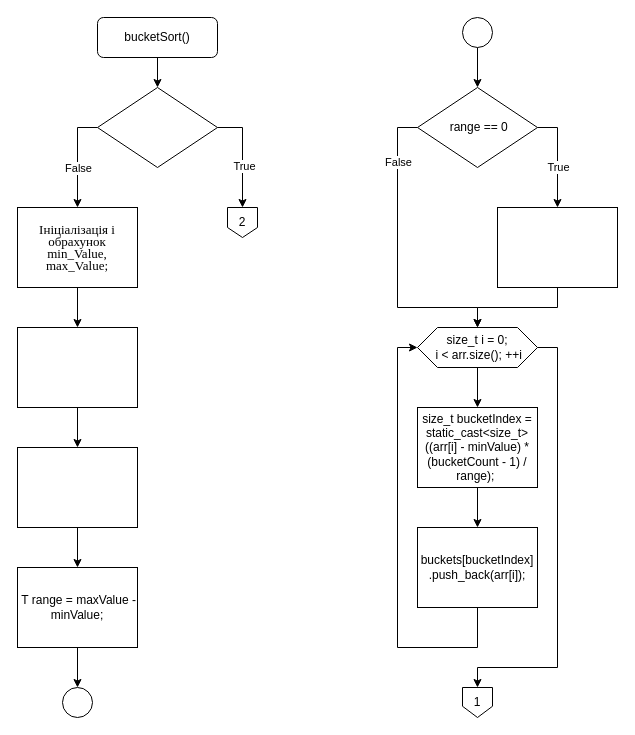
Some shapes in this 635 by 735 pixel diagram are drawn without their labels. Each missing label, with the centre of its shape:
"arr.empty()" belongs at point (157, 127).
"range = 1;" belongs at point (557, 247).
"size_t bucketCount = arr.size();" belongs at point (77, 367).
"vector<std::vector<T>> buckets(bucketCount);" belongs at point (77, 487).
